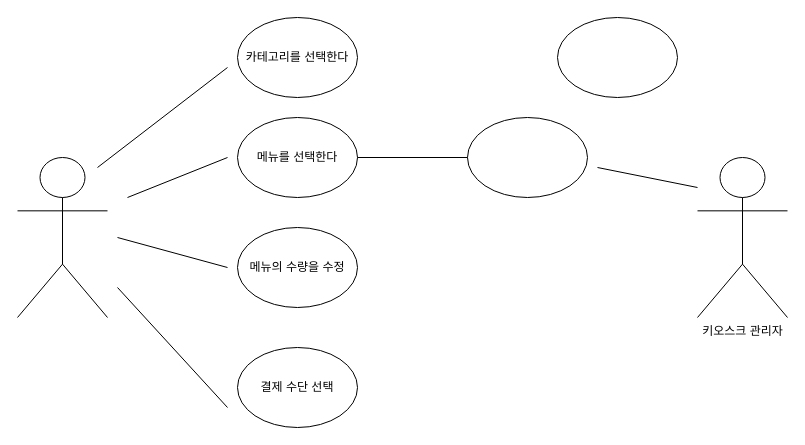
Image size: 805x445. Some labels were removed from this diagram. The shapes that lost their labels are listed below. From the top down, each one's centre as x and y in pixels, then its label:
At point (617, 57): "당일 매출을 확인한다".
At point (527, 157): "품절된 메뉴를 선택한다.".
At point (62, 237): "유저".
